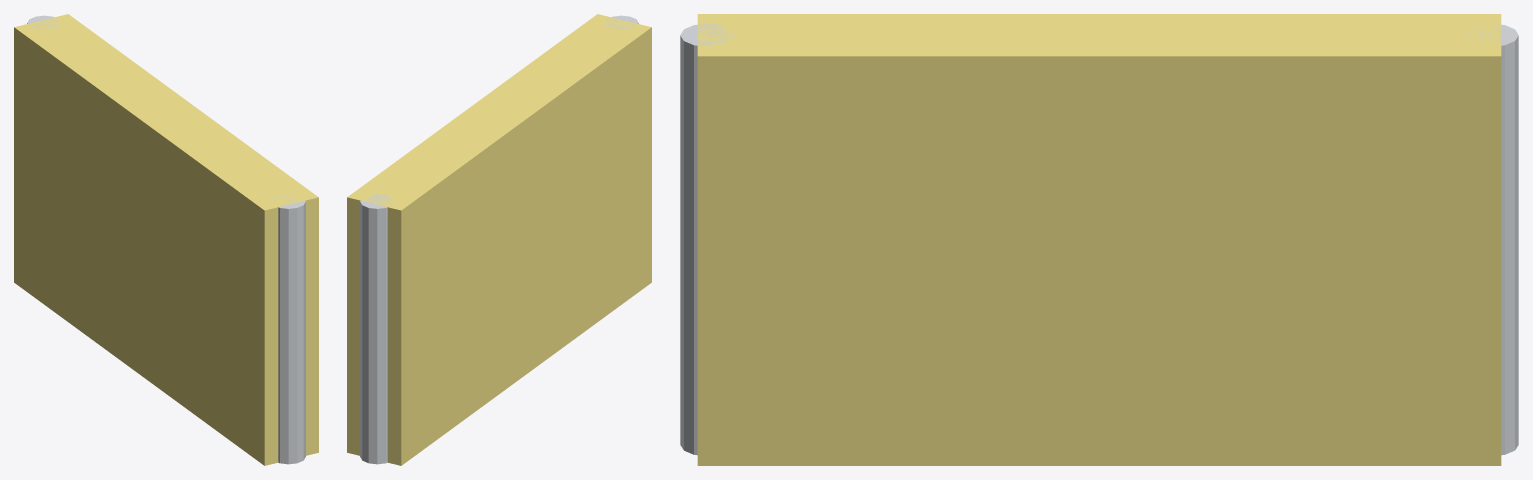
File: Toy_Bars_Rail.fbx
The picture shows the model from 3 angles, left to right: view 1: azimuth 30°, elevation 25°; view 2: azimuth 150°, elevation 25°; view 3: azimuth 270°, elevation 25°; orthographic projection. The views are drawn at different scales.
Parts seen in each view (by area): view 1: Toy_Bars_Rail; view 2: Toy_Bars_Rail; view 3: Toy_Bars_Rail.
Part boxes in pixels (x1,y1,x2,y2): Toy_Bars_Rail: (14,14,318,465); Toy_Bars_Rail: (347,14,651,465); Toy_Bars_Rail: (680,14,1518,465).
Bounding box in the file's own units: 0.2 × 0.9 × 1.67.
